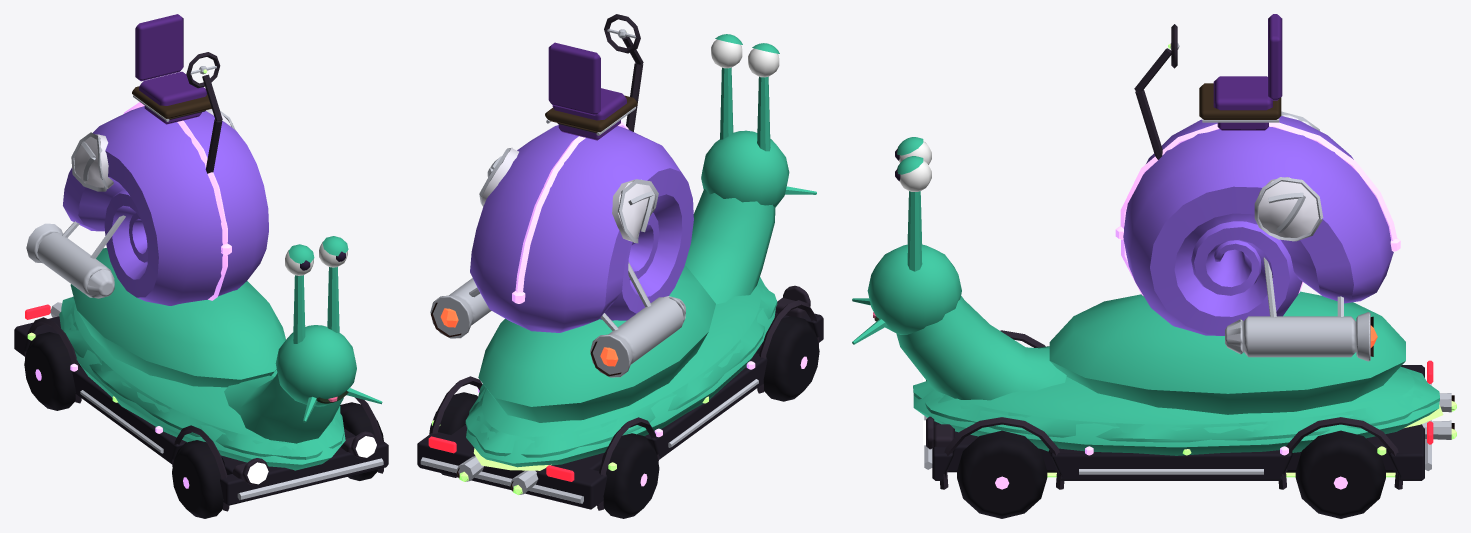
Rendered from turbo_escargot_lo.glb.
3 renders of one model, left to right at view 1: azimuth 30°, elevation 25°; view 2: azimuth 150°, elevation 25°; view 3: azimuth 270°, elevation 25°, orthographic. The views are drawn at different scales.
Visible parts, largest first — view 1: shell_coil, mantle, foot, deck, head, skirt, neck, wheel_FR_tyre, wheel_RR_tyre, seat_back, rocket_0, seat_cushion (+15 smaller); view 2: shell_coil, mantle, foot, neck, deck, skirt, head, wheel_FR_tyre, wheel_RR_tyre, seat_back, rocket_0, shell_spine (+20 smaller); view 3: shell_coil, mantle, foot, neck, deck, skirt, wheel_FL_tyre, wheel_RL_tyre, head, rocket_1, roundel_1, shell_spine (+10 smaller).
Boxes of the visible parts, x1,y1,x2,y2 form: shell_coil: (63, 106, 268, 305); mantle: (70, 247, 285, 387); foot: (59, 304, 345, 470); deck: (14, 316, 388, 505); head: (275, 325, 356, 406); skirt: (61, 296, 343, 459); neck: (224, 373, 343, 443); wheel_FR_tyre: (172, 440, 224, 518); wheel_RR_tyre: (24, 332, 75, 410); seat_back: (135, 14, 183, 81); rocket_0: (37, 232, 111, 297); seat_cushion: (139, 71, 207, 105); shell_coil: (470, 125, 693, 332); mantle: (478, 265, 715, 422); foot: (466, 282, 776, 467); neck: (685, 189, 775, 304); deck: (417, 313, 823, 509); skirt: (465, 277, 777, 457); head: (701, 130, 789, 207); wheel_FR_tyre: (762, 316, 819, 401); wheel_RR_tyre: (601, 433, 659, 518); seat_back: (548, 42, 600, 115); rocket_0: (608, 297, 683, 364); shell_spine: (515, 121, 628, 292); shell_coil: (1123, 116, 1393, 335); mantle: (1049, 291, 1405, 414); foot: (913, 347, 1439, 455); neck: (896, 295, 1066, 400); deck: (932, 365, 1424, 480); skirt: (913, 346, 1439, 442); wheel_FL_tyre: (957, 430, 1047, 518); wheel_RL_tyre: (1295, 430, 1385, 518); head: (867, 244, 961, 334); rocket_1: (1243, 316, 1356, 357); roundel_1: (1258, 177, 1321, 237); shell_spine: (1120, 122, 1397, 295).
Bounding box in the file's own units: 2.39 × 4.81 × 5.89.
